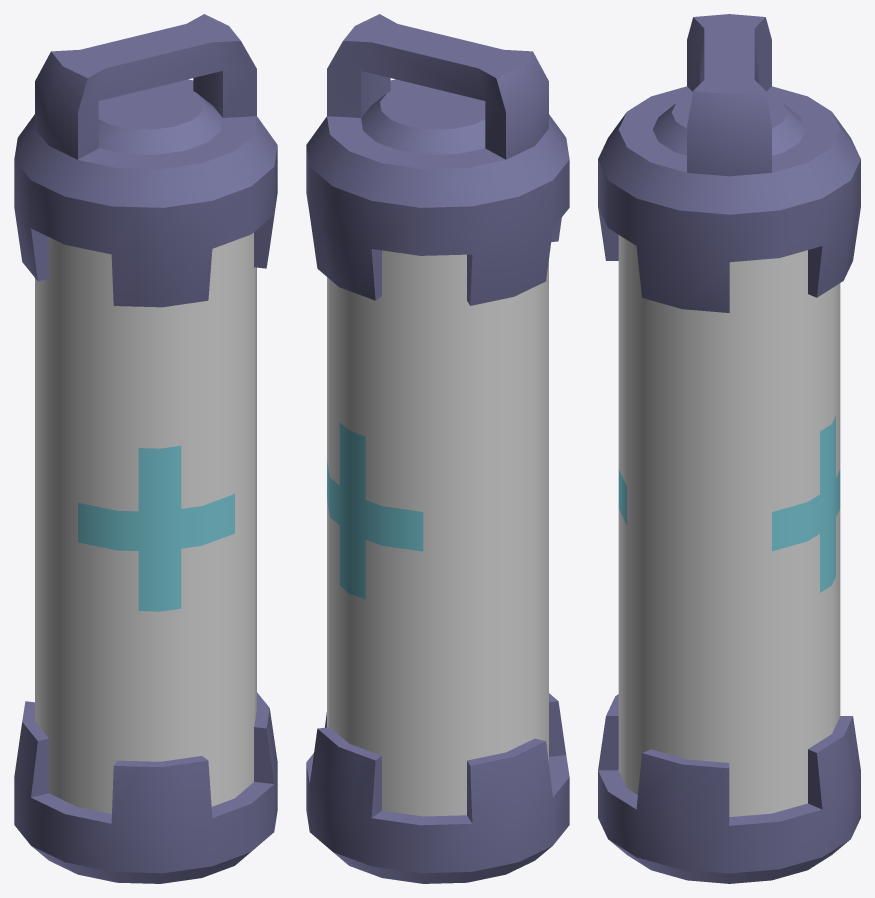
Rendered from healthdrop.fbx.
3 views of the same model, side by side, from view 1: azimuth 30°, elevation 25°; view 2: azimuth 150°, elevation 25°; view 3: azimuth 270°, elevation 25° (orthographic).
Visible parts, largest first — view 1: Cylinder; view 2: Cylinder; view 3: Cylinder.
Part boxes in pixels (<box>): Cylinder: <box>14,14,277,883</box>; Cylinder: <box>306,14,569,883</box>; Cylinder: <box>598,14,860,883</box>.
Size of the model in its own units: 48.43 by 159 by 48.43.
